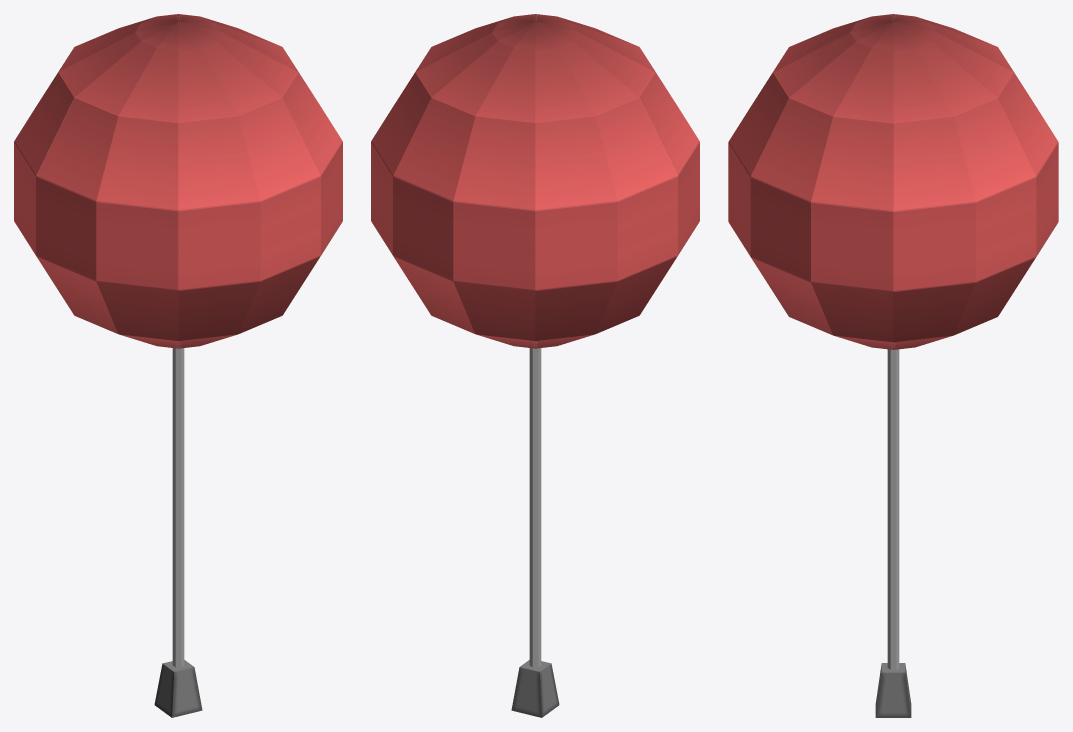
Rendered from Balloon_1-2.fbx.
The picture shows the model from 3 angles, left to right: view 1: azimuth 30°, elevation 25°; view 2: azimuth 150°, elevation 25°; view 3: azimuth 270°, elevation 25°; orthographic projection.
Parts seen in each view (by area): view 1: Balloon_1-2; view 2: Balloon_1-2; view 3: Balloon_1-2.
Part boxes in pixels (box(x1,y1,x2,y2)): Balloon_1-2: box(14, 14, 342, 717); Balloon_1-2: box(371, 14, 699, 717); Balloon_1-2: box(728, 14, 1058, 717).
Size of the model in its own units: 140 by 323 by 140.
Materials: 2 (2 with a texture image).
